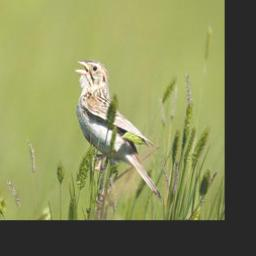Sparrow: (73, 58, 161, 198)
